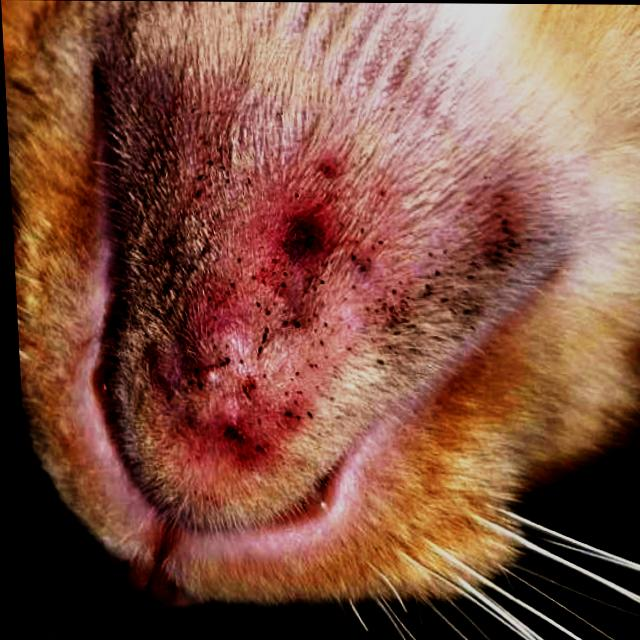acne: (108, 141, 495, 531)
